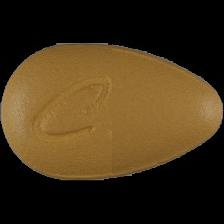63629-2734: (0, 0, 224, 224)
